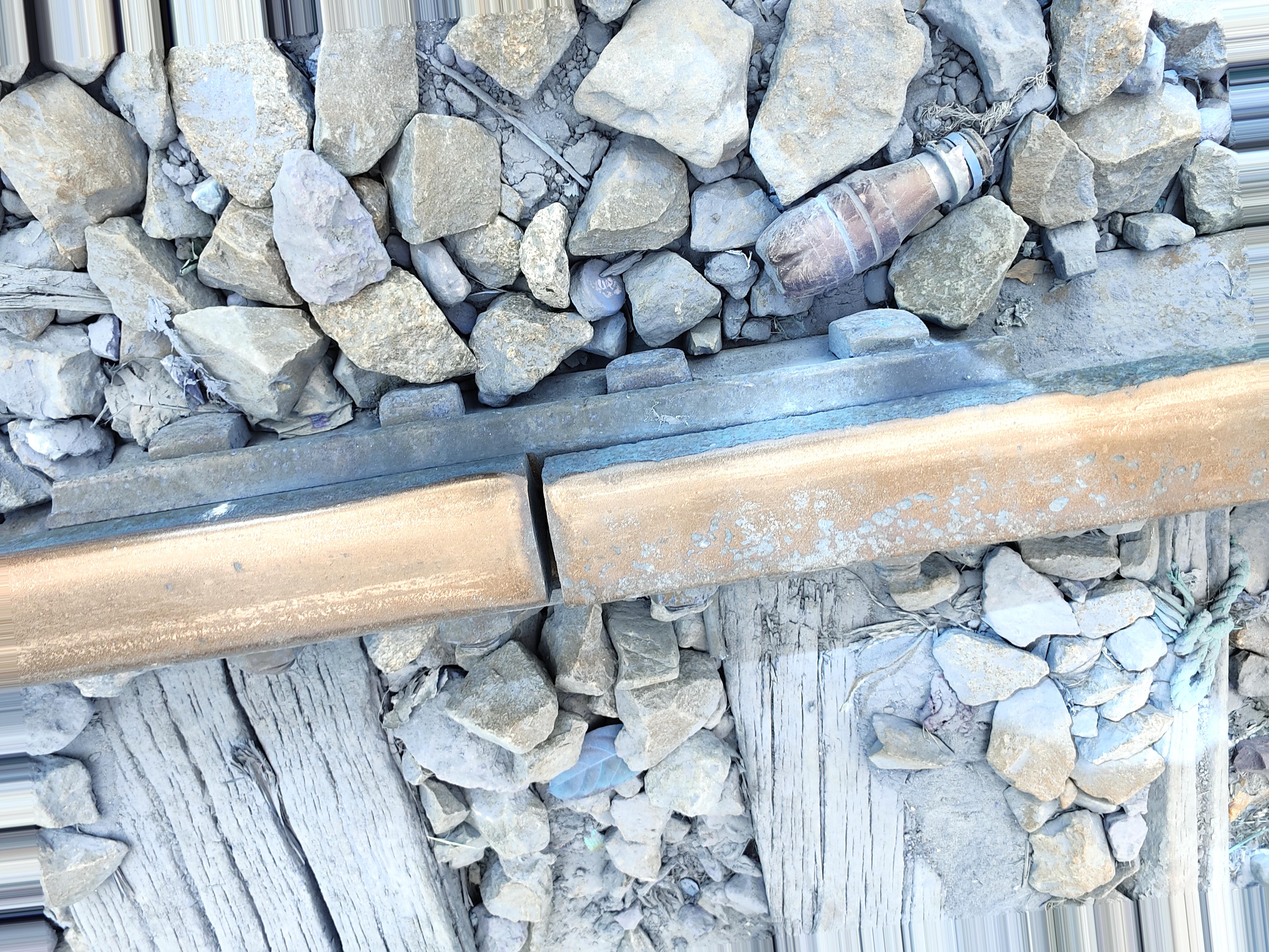tracks_fault: (452, 405, 598, 656)
